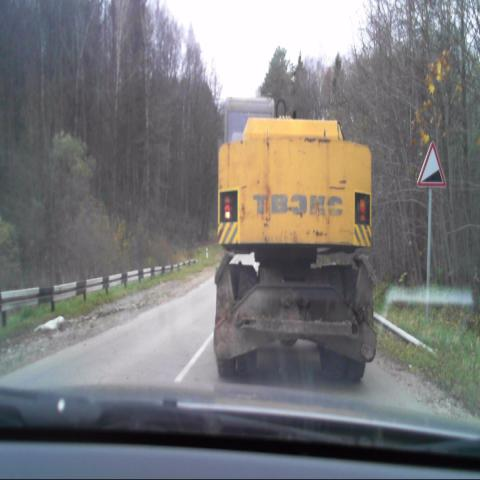1_14: (417, 139, 449, 189)
